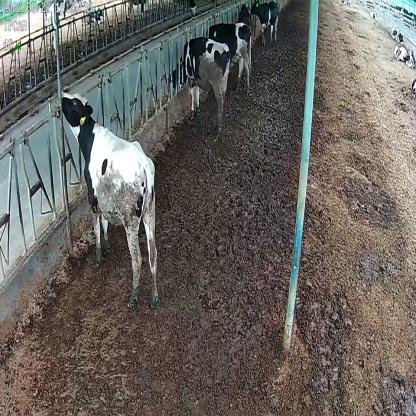cow: (60, 89, 161, 312), (168, 36, 231, 127), (205, 20, 252, 92), (249, 0, 280, 46)
